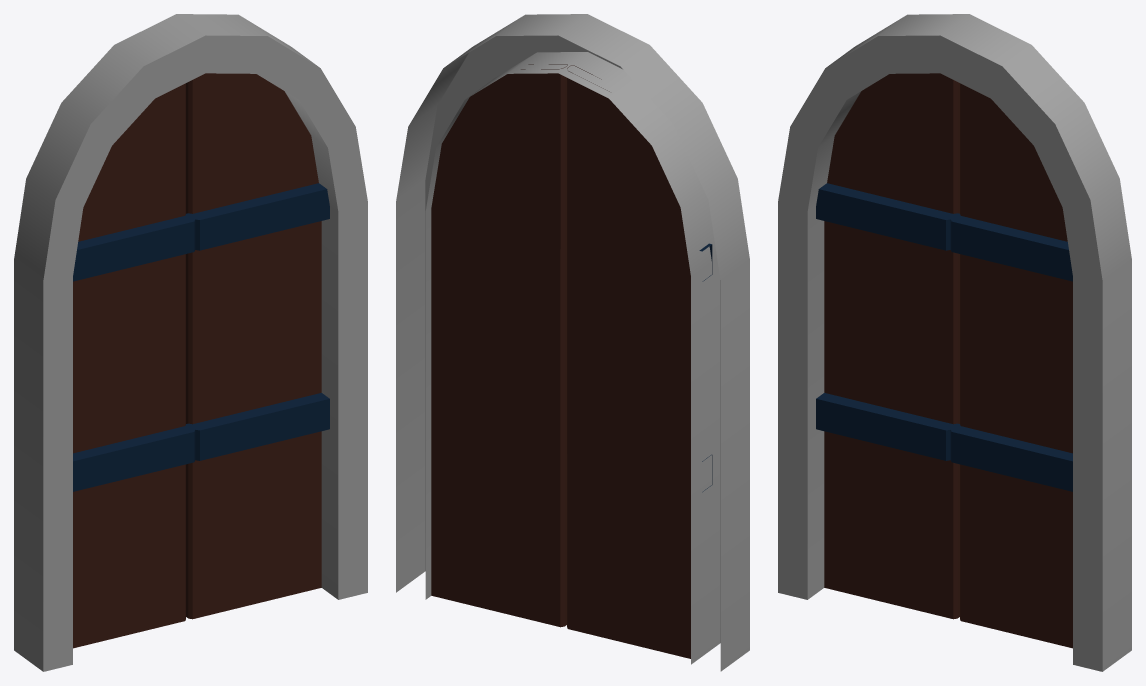
Rendered from castle_door_1.FBX.
The picture shows the model from 3 angles, left to right: view 1: azimuth 30°, elevation 25°; view 2: azimuth 150°, elevation 25°; view 3: azimuth 330°, elevation 25°; orthographic projection.
Visible parts, largest first — view 1: castle_door_1; view 2: castle_door_1; view 3: castle_door_1.
Part boxes in pixels (box(x1,y1,x2,y2)): castle_door_1: box(14, 14, 367, 671); castle_door_1: box(396, 14, 749, 671); castle_door_1: box(778, 14, 1131, 671).
Size of the model in its own units: 165 by 290 by 25.87.
